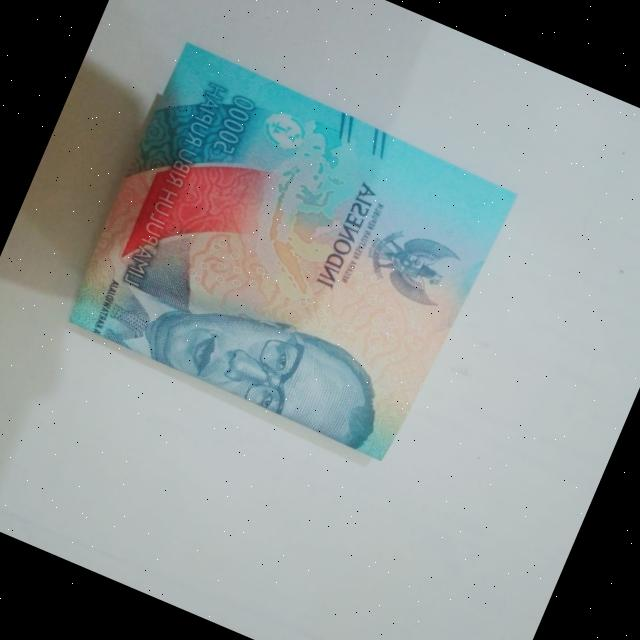50K: (52, 26, 534, 483)
